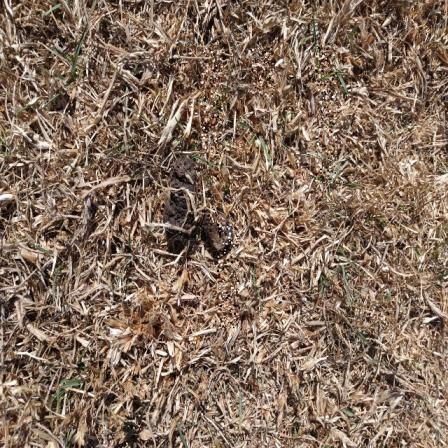dog-poop: (154, 151, 238, 263)
